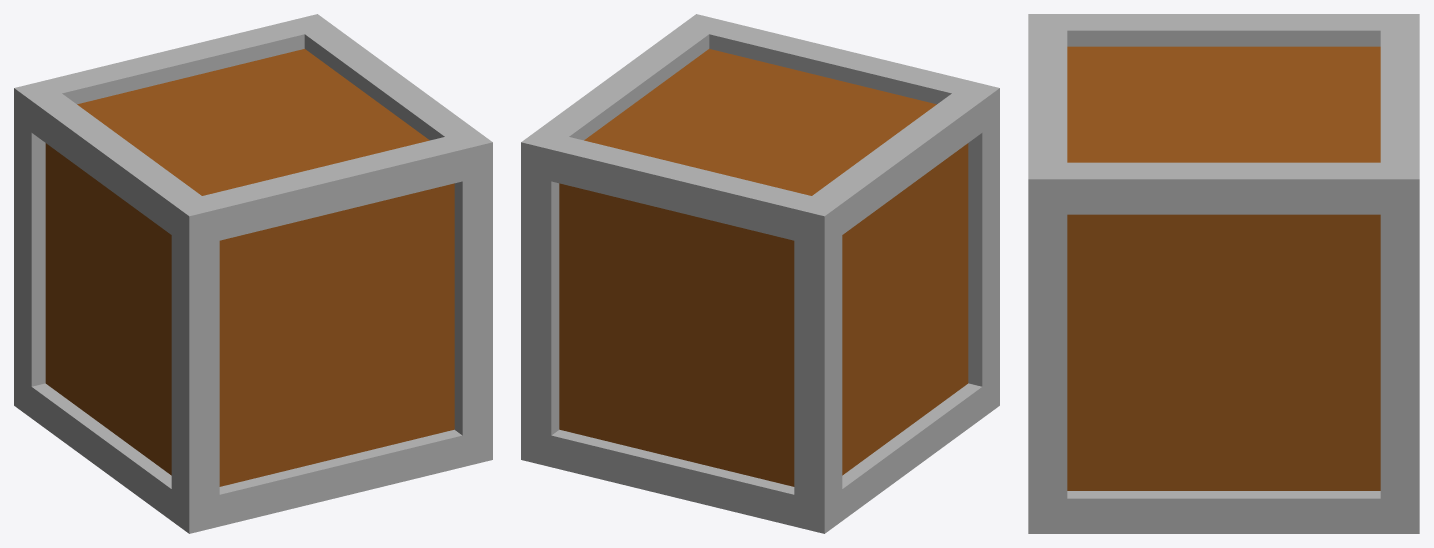
Rendered from BoxUV.fbx.
3 views of the same model, side by side, from view 1: azimuth 30°, elevation 25°; view 2: azimuth 150°, elevation 25°; view 3: azimuth 270°, elevation 25° (orthographic). The views are drawn at different scales.
Visible parts, largest first — view 1: Cube; view 2: Cube; view 3: Cube.
Boxes of the visible parts, <box> form: Cube: <box>14,14,492,533</box>; Cube: <box>521,14,999,533</box>; Cube: <box>1028,14,1419,533</box>.
Size of the model in its own units: 71.81 by 71.81 by 71.81.
